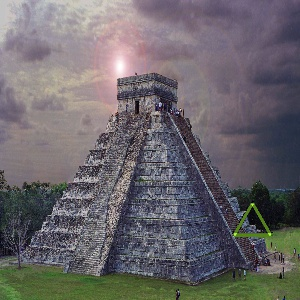triangle: (231, 200, 273, 240)
